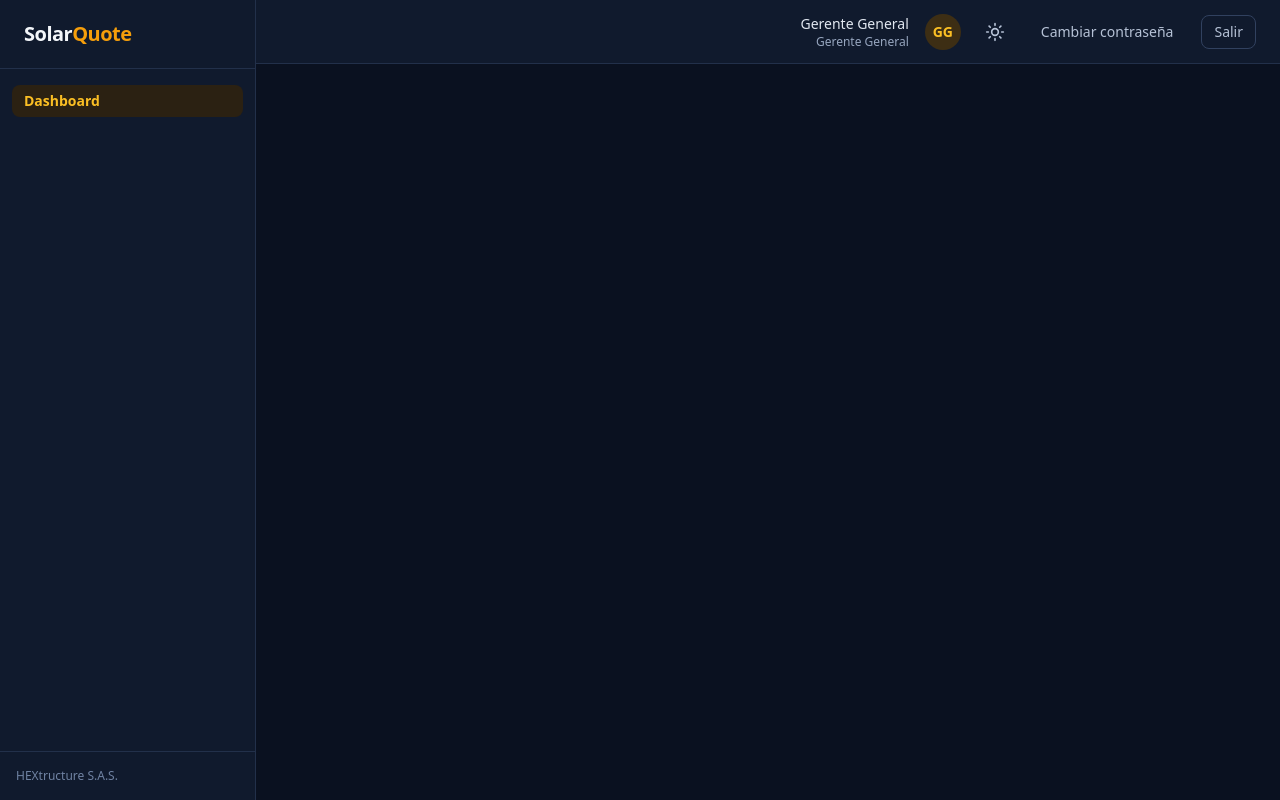
Test: Botón de tema en el encabezado › alterna el tema al hacer clic y actualiza su etiqueta accesible
Click the button named "Cambiar a modo claro" at (995,32), box [977, 14, 1013, 50]
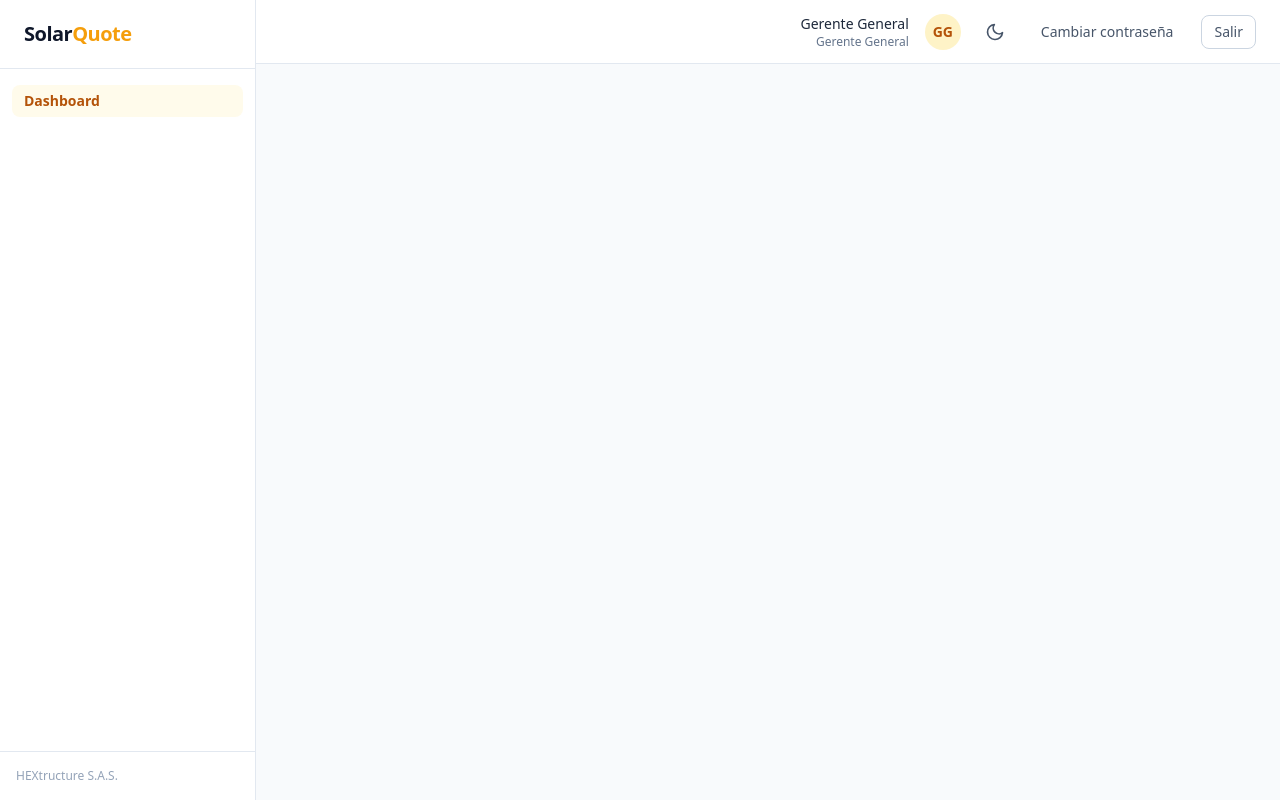
Now the button named "Cambiar a modo oscuro" is shown, box [977, 14, 1013, 50]
